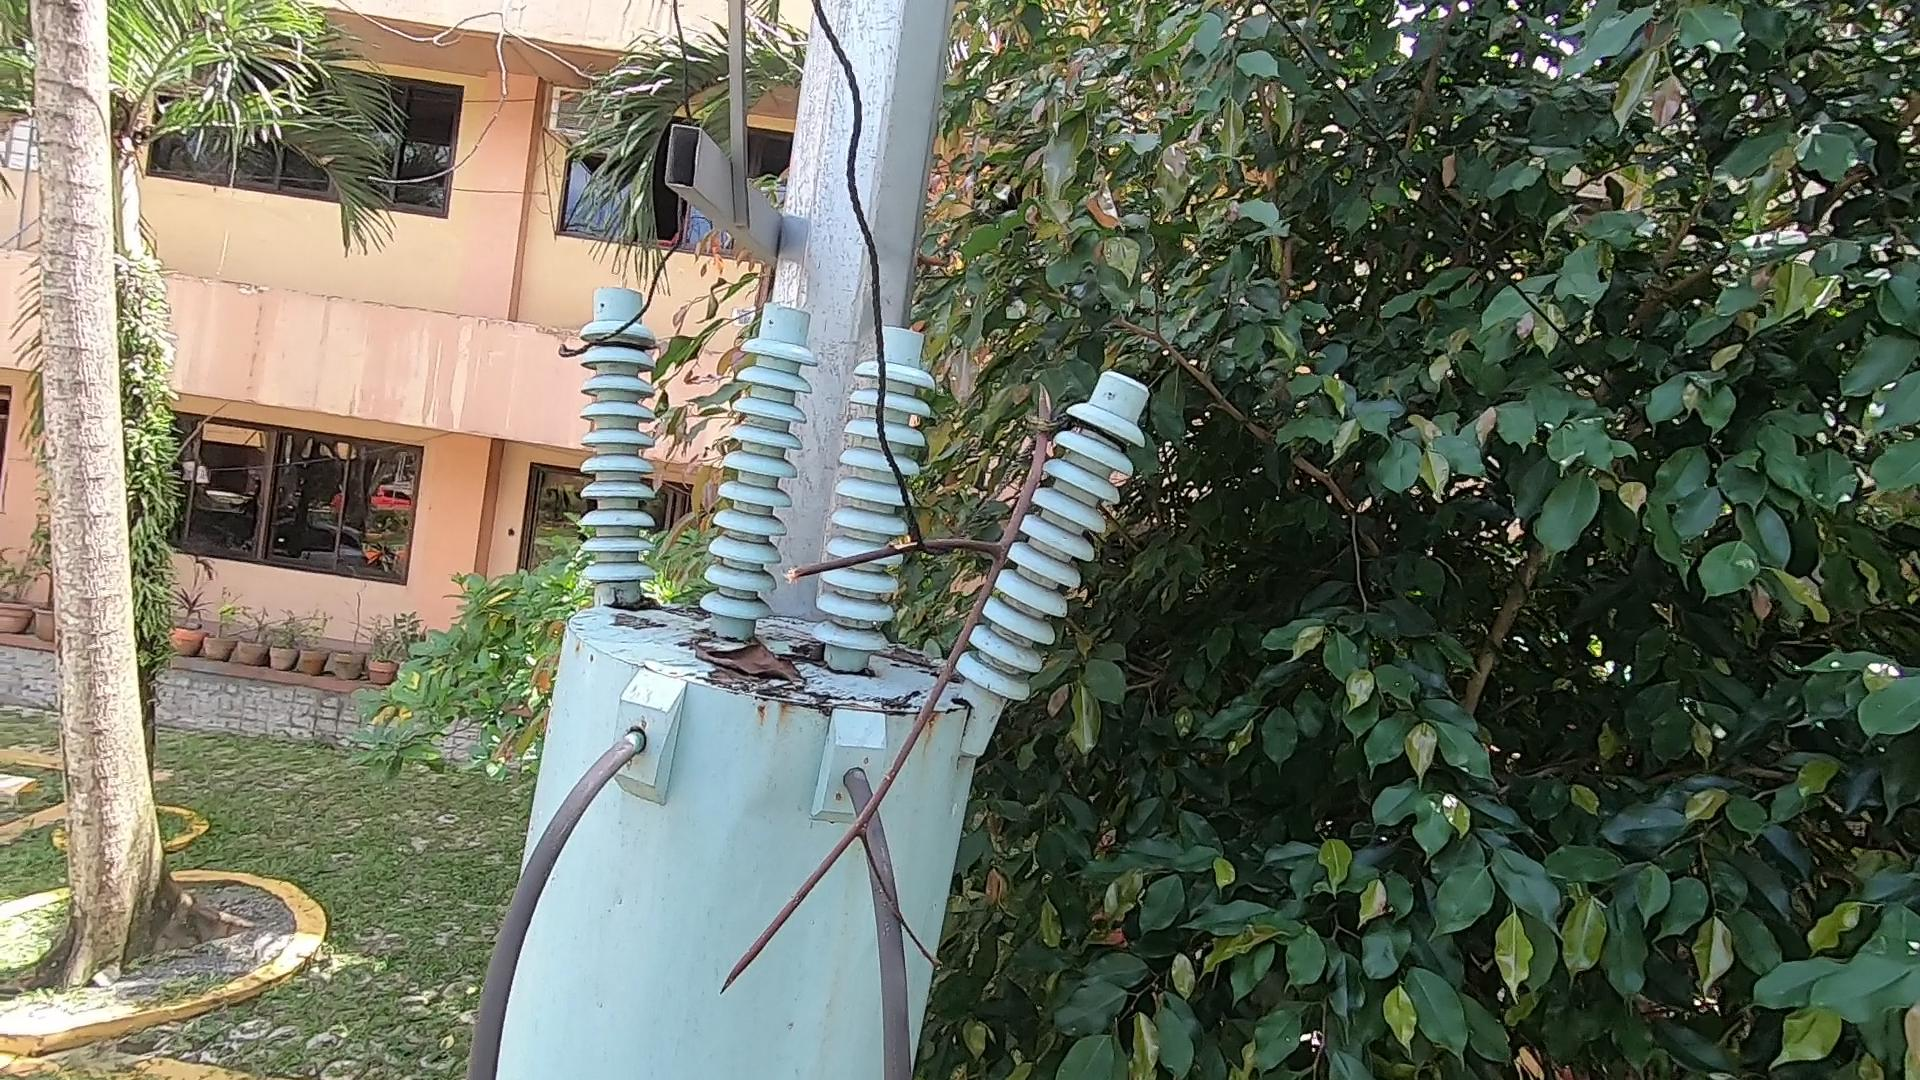leaf: (695, 628, 815, 713)
tree branch: (679, 377, 1072, 1014)
